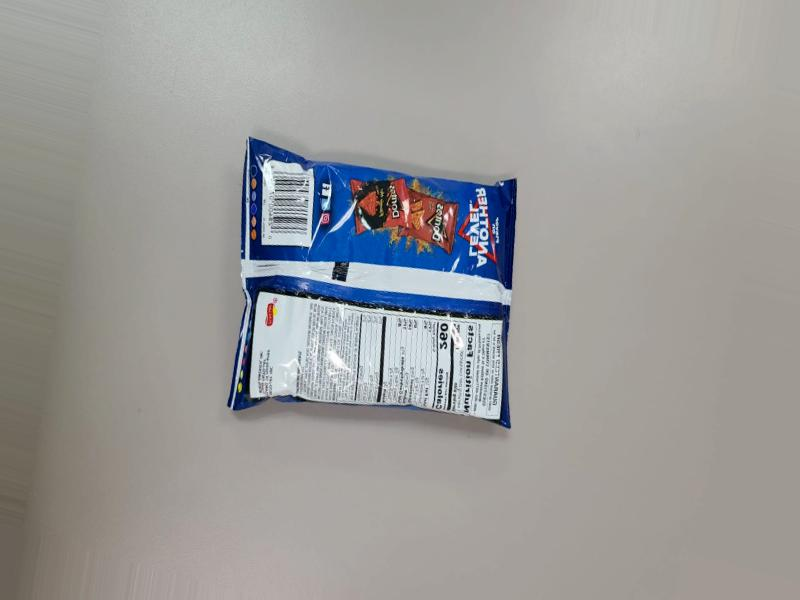doritos: (241, 134, 513, 429)
